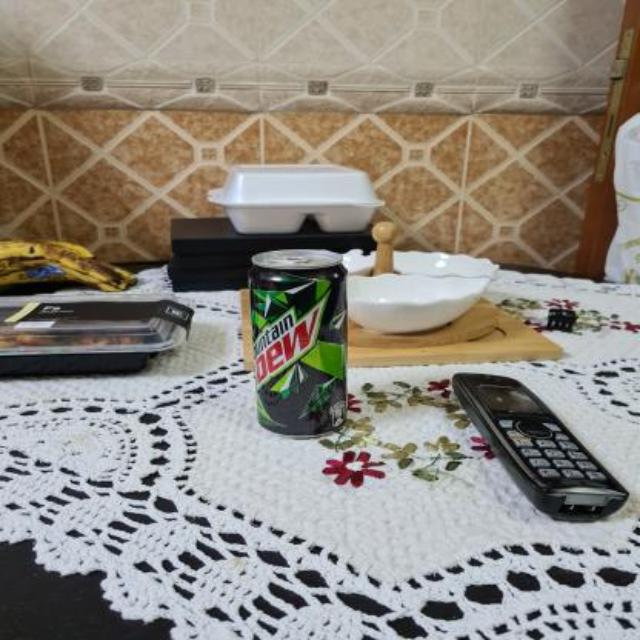metal: (249, 249, 346, 437)
